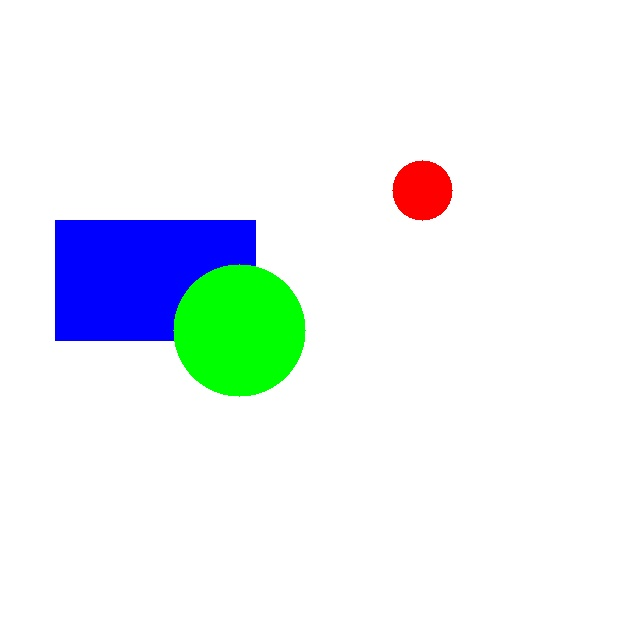cartao: (55, 220, 255, 340)
rosca_externa: (173, 264, 305, 396)
rosca_interna: (392, 160, 452, 220)
